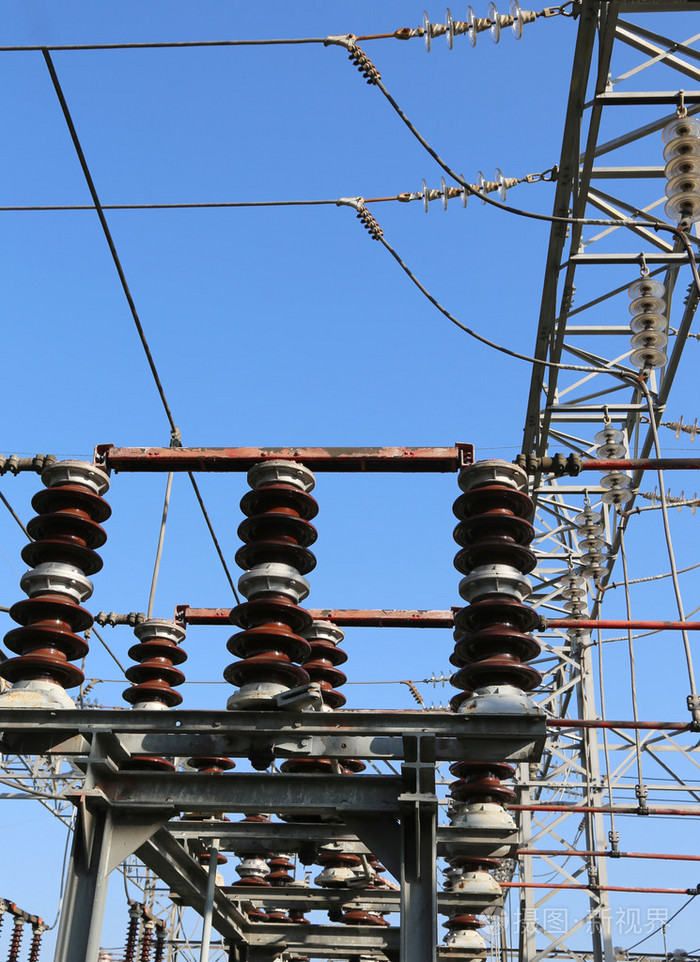insulator: (449, 603, 544, 688), (25, 485, 115, 570), (454, 487, 539, 571), (237, 486, 321, 570), (2, 603, 96, 676), (228, 603, 314, 678), (419, 1, 526, 52), (120, 640, 193, 701), (416, 167, 512, 213), (660, 117, 700, 222), (627, 276, 669, 370), (592, 428, 634, 506), (304, 644, 353, 700), (579, 511, 607, 581), (556, 569, 590, 624)
